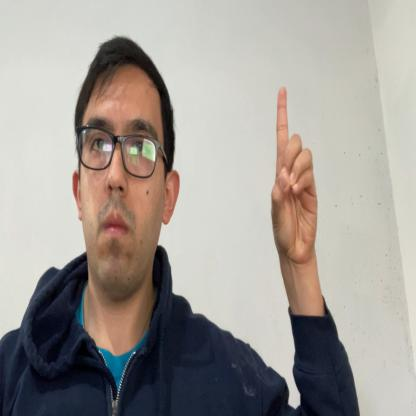D: (271, 85, 318, 264)
